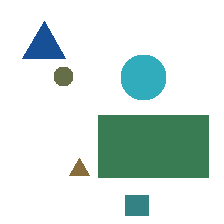circle: (121, 55, 165, 99), (54, 67, 72, 85)
rectangle: (98, 115, 208, 177), (125, 195, 148, 215)
triangle: (22, 21, 65, 58), (69, 158, 89, 175)
